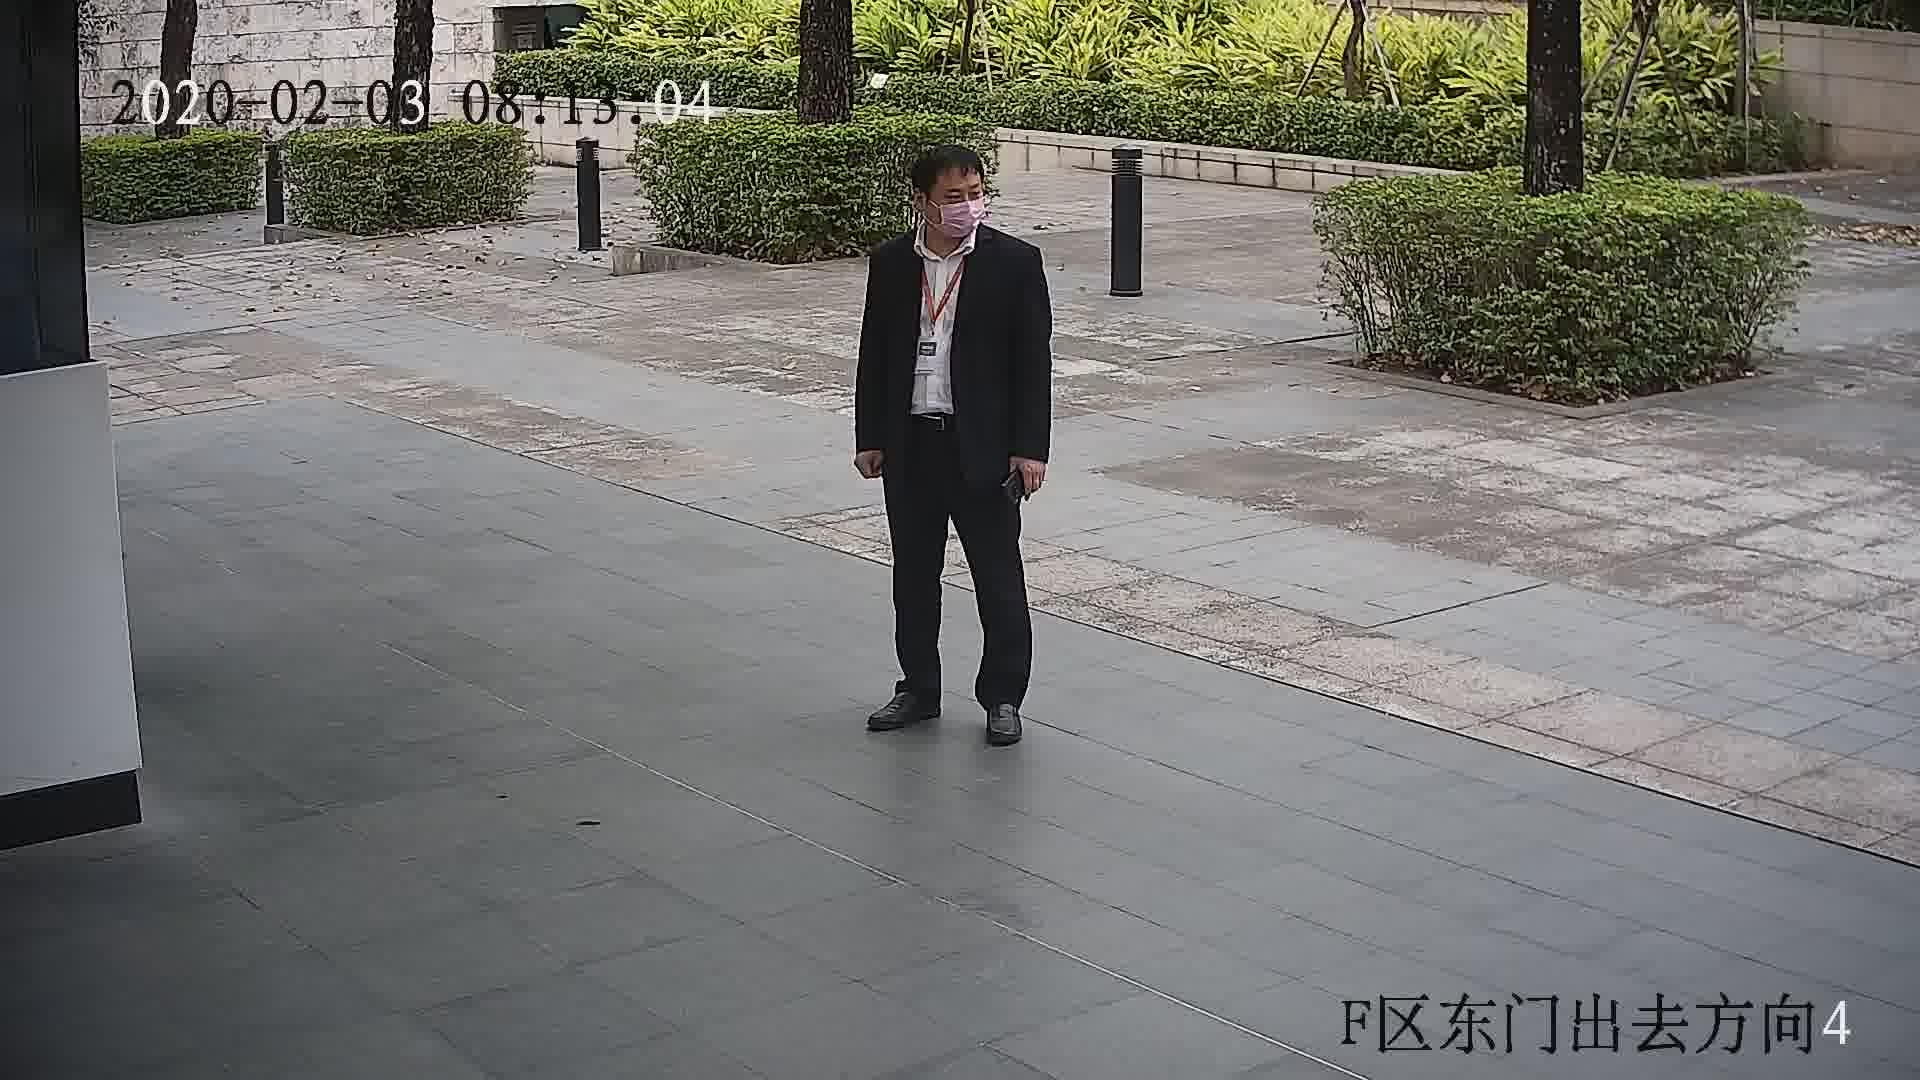face: (922, 174, 990, 241)
mask: (934, 197, 987, 240)
person: (871, 143, 1040, 281)
